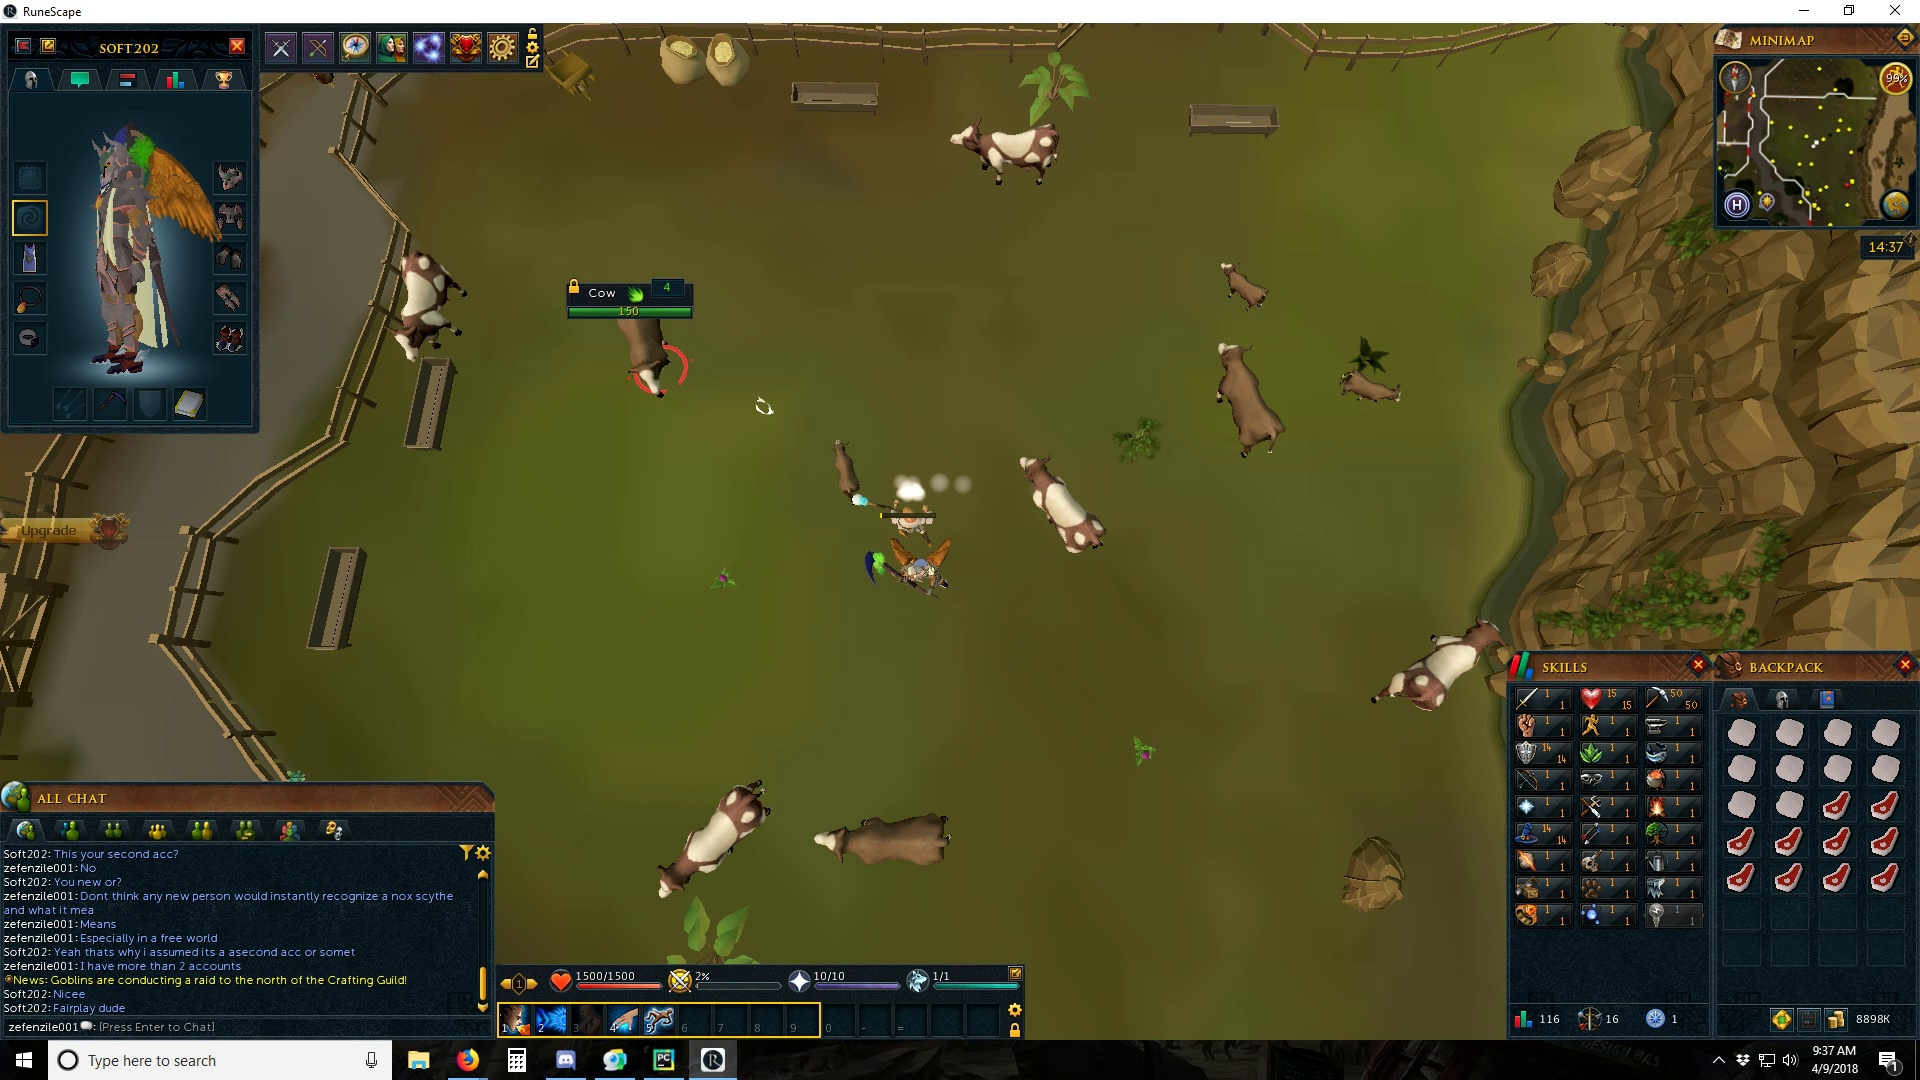calf: (1212, 260, 1270, 310), (1338, 369, 1407, 406), (827, 434, 861, 501)
cow: (653, 775, 775, 902), (1370, 617, 1507, 716), (385, 253, 469, 367), (1015, 454, 1108, 553), (947, 117, 1064, 189), (812, 808, 955, 866), (1215, 344, 1284, 458), (616, 320, 671, 402)
